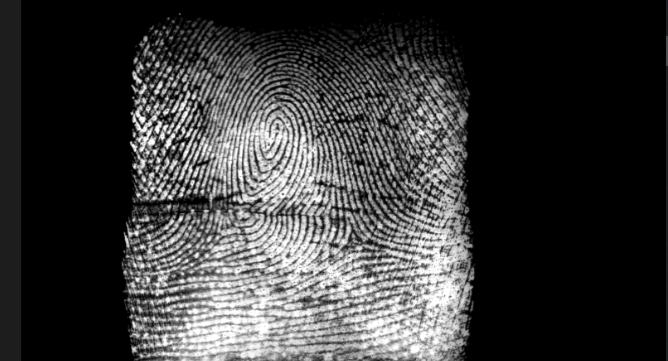nucelo: (265, 108, 295, 154)
verticilo: (339, 221, 366, 250), (238, 193, 269, 211)
